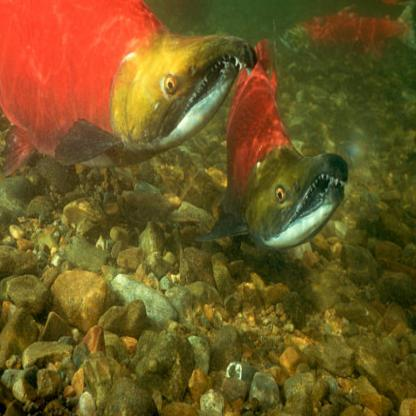sockeye: (0, 0, 254, 160), (225, 38, 343, 253), (281, 3, 416, 66)
